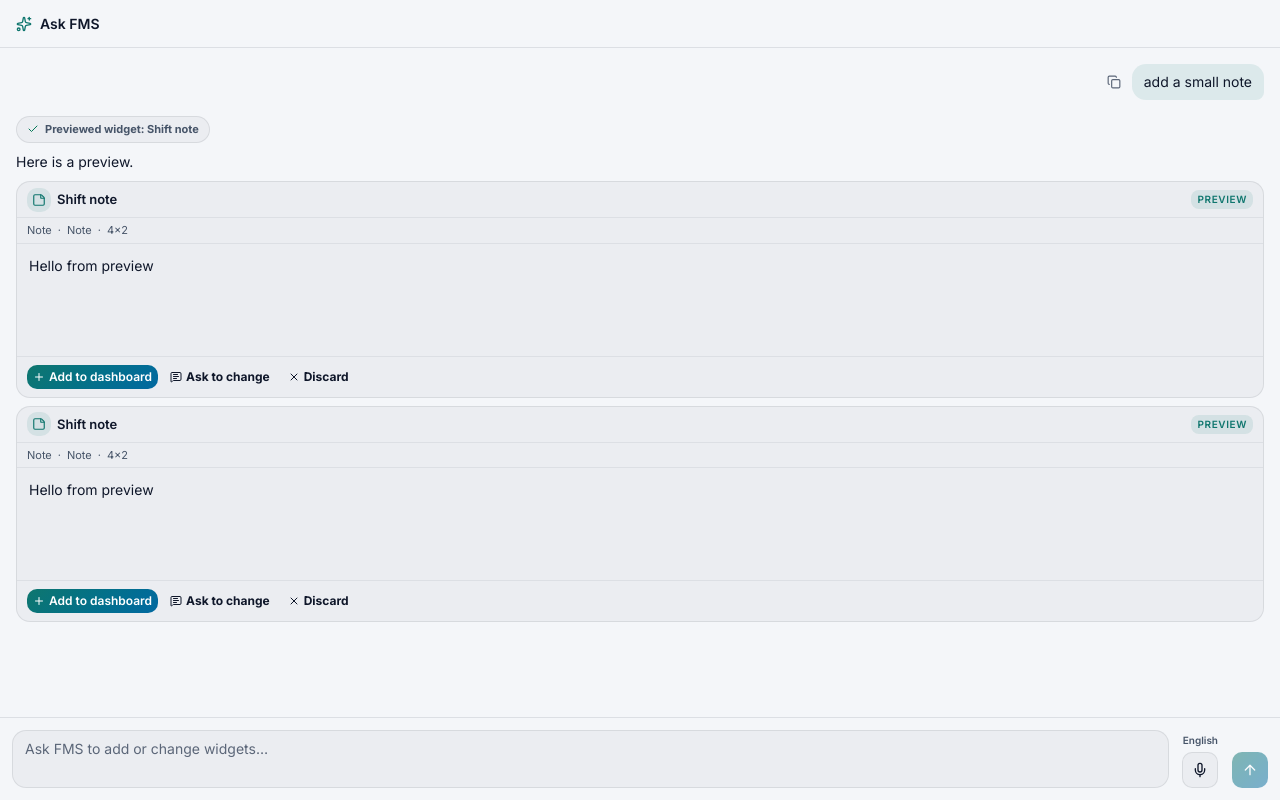
Test: D-135 P-T4: preview card in the dashboard chat › renders the widget; Add saves + PATCHes the card; Discard hides; Ask to change pre-fills
This screenshot has width=1280, height=800.
expect the number of elements with test id "widget-preview" is 2: met, box [16,181,1264,398]; [16,406,1264,622]
expect the 1st text "Hello from preview" is shown: met, box [29,257,154,274]
What coordinates should you click on to do the following:
click the button with test id "preview-add"
I would click on:
 (93, 377)
Its box is [27,365,158,389].
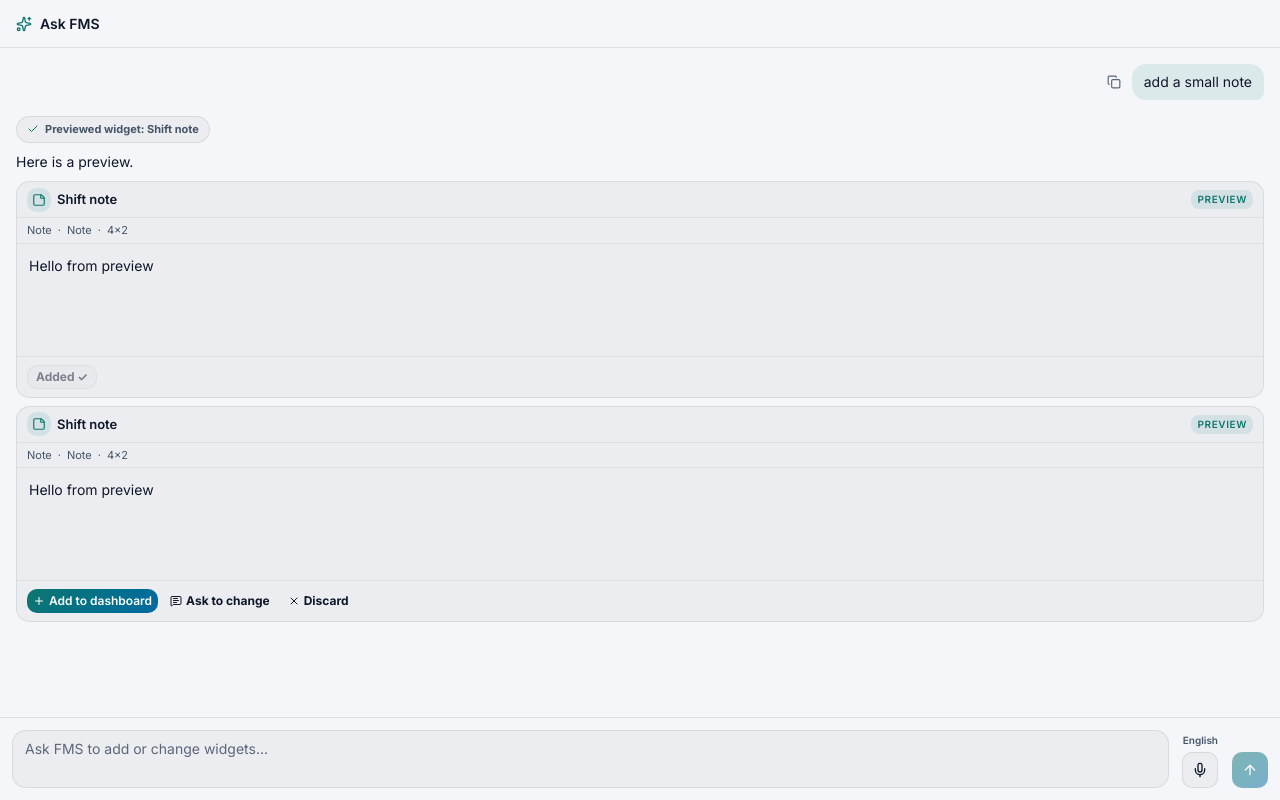
expect the button with test id "preview-added" reads "Added ✓": met, box [27,365,97,389]
expect the button with test id "preview-added" is disabled: met, box [27,365,97,389]
What coordinates should you click on to do the following:
click the button with test id "preview-ask"
I would click on:
 (220, 601)
Its box is [164,589,276,613].
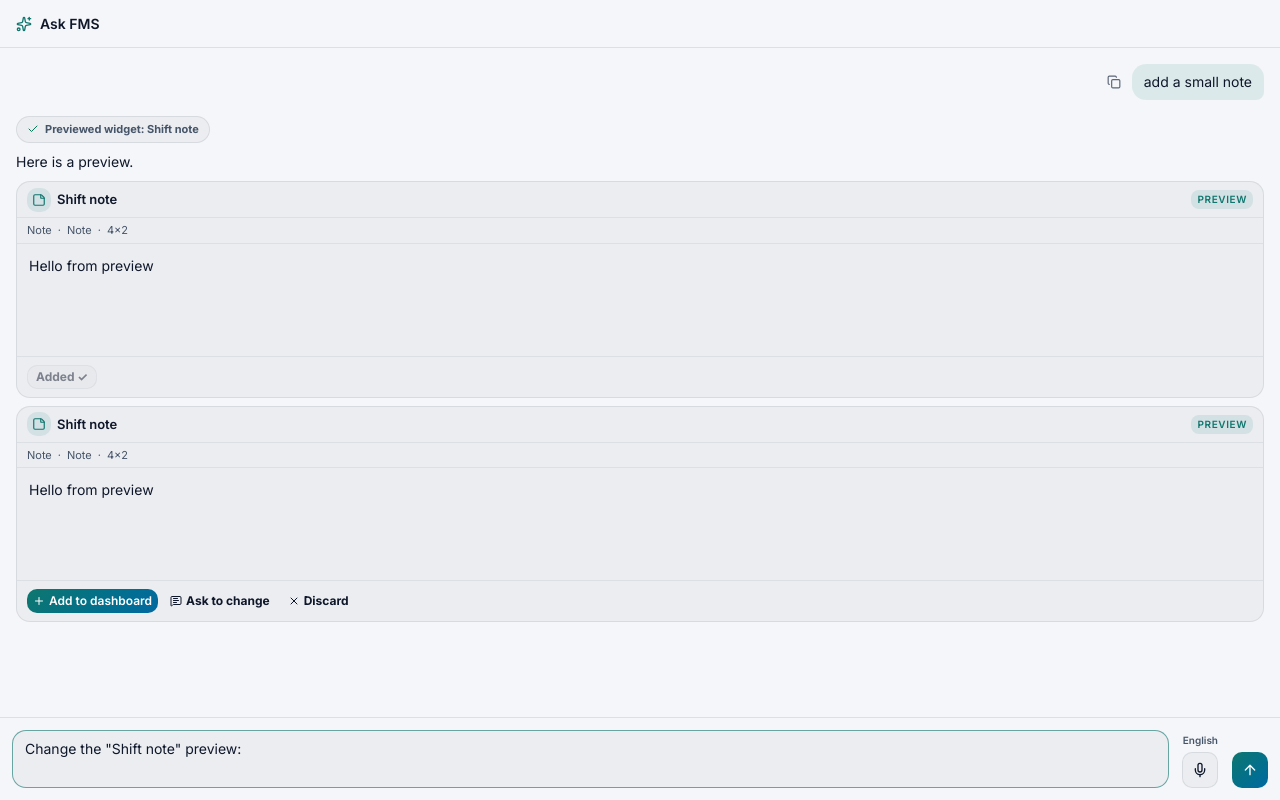
expect the text box named "Message the assistant" holds "Change the \"Shift note\" preview: ": met, box [12,730,1169,788]
What coordinates should you click on to do the following:
click the button with test id "preview-discard"
I would click on:
 (318, 601)
Its box is [282,589,355,613].
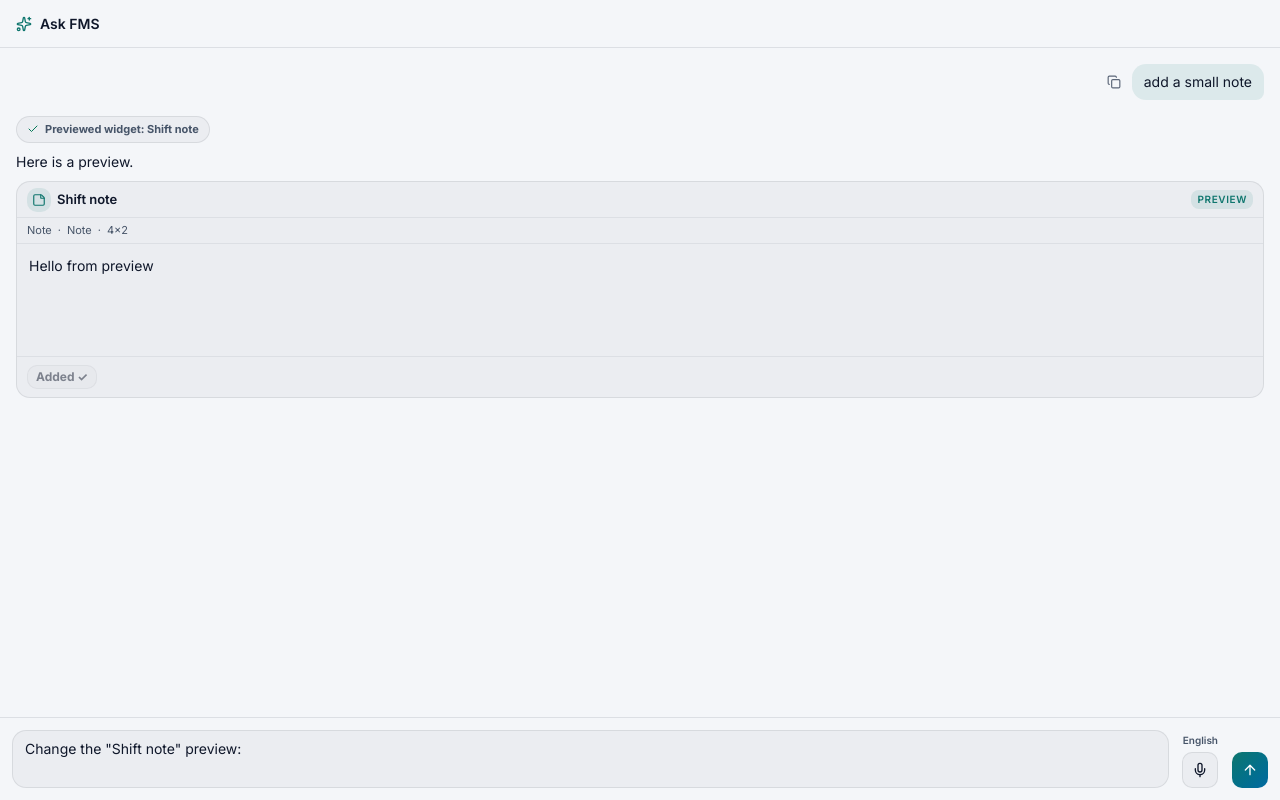
expect the number of elements with test id "widget-preview" is 1: met, box [16,181,1264,398]
